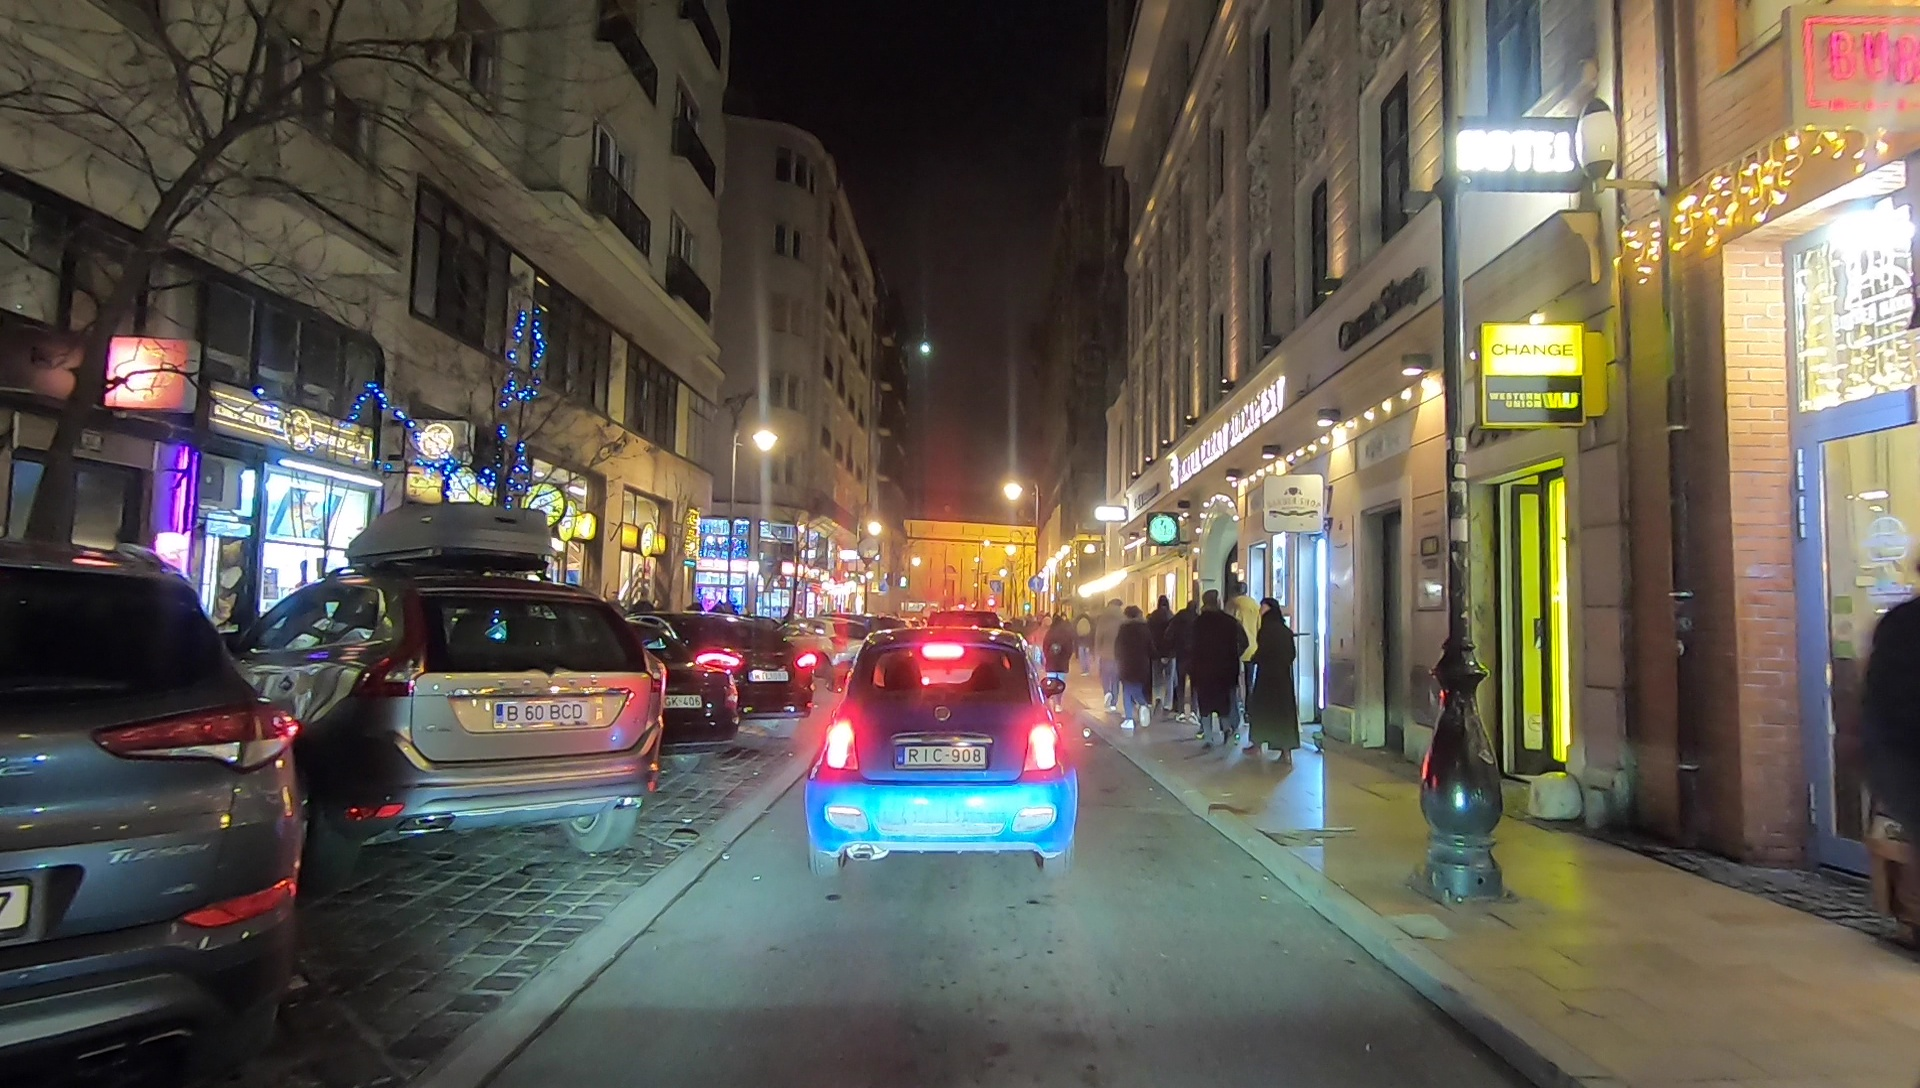person: (1247, 601, 1295, 761), (1197, 587, 1244, 739), (1117, 607, 1154, 729), (1173, 601, 1204, 720), (1045, 612, 1075, 710), (1100, 599, 1128, 706)
